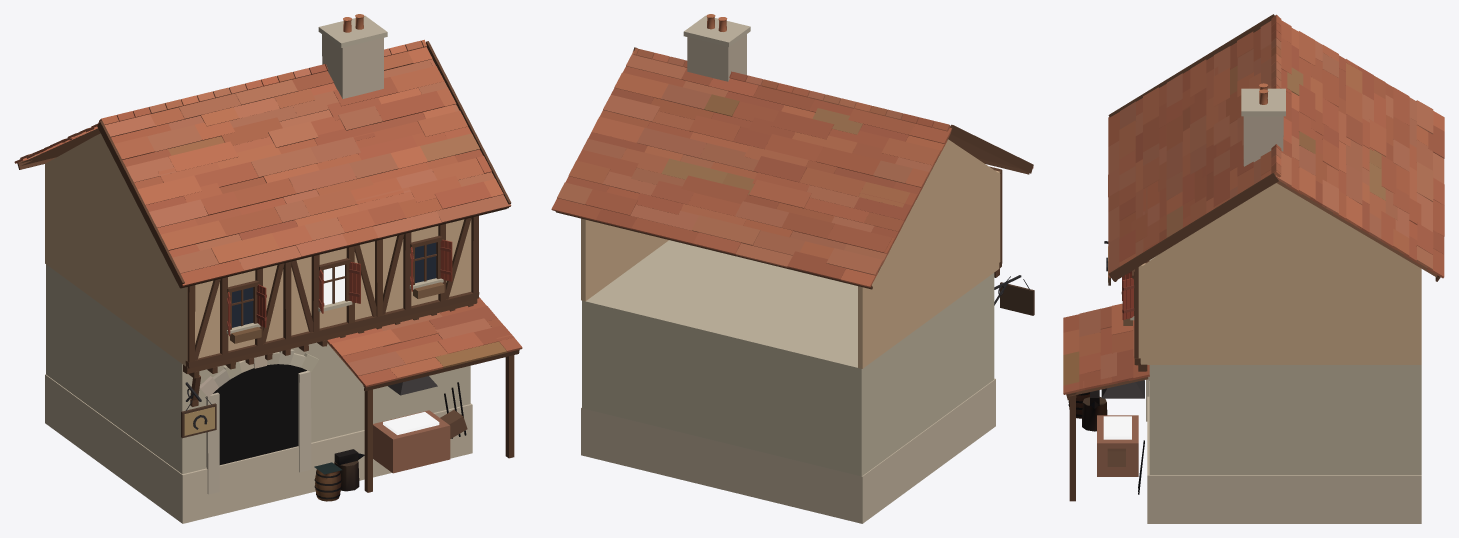
File: forja.glb
3 renders of one model, left to right at view 1: azimuth 30°, elevation 25°; view 2: azimuth 150°, elevation 25°; view 3: azimuth 270°, elevation 25°, orthographic. The views are drawn at different scales.
Visible parts, largest first — view 1: forja_fijo, forja_piezas; view 2: forja_fijo; view 3: forja_fijo, forja_piezas.
Part boxes in pixels (left/top/right/bottom): forja_fijo: left=14, top=14, right=522, bottom=523; forja_piezas: left=314, top=382, right=466, bottom=501; forja_fijo: left=551, top=14, right=1034, bottom=523; forja_fijo: left=1063, top=14, right=1444, bottom=523; forja_piezas: left=1068, top=390, right=1144, bottom=494.
Size of the model in its own units: 8.63 by 10.22 by 8.7.
